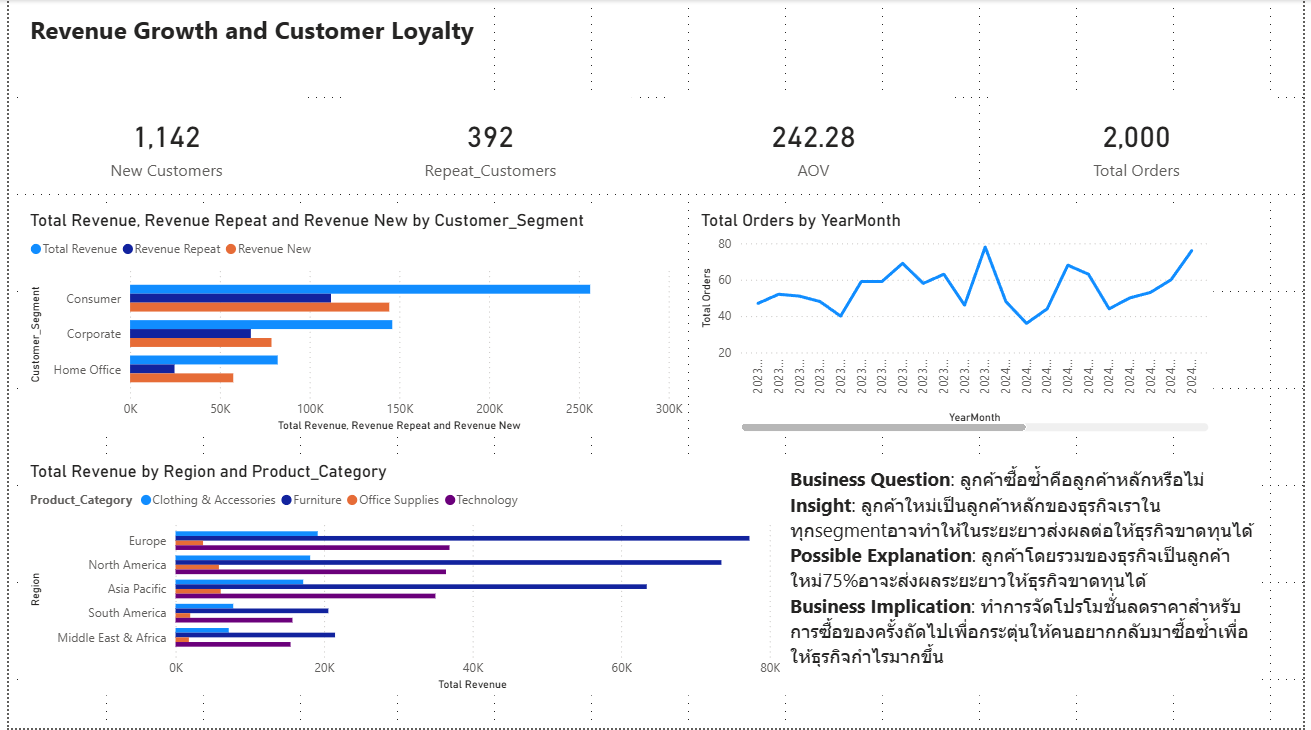

The dashboard page shown, as its layout file describes it:
{"tool":"powerbi","page":{"name":"Customer & Order Analysis","canvas":[1280,720],"ordinal":1},"visuals":[{"type":"card","fields":{"Values":["Measure Table.New Customers"]},"box":[16,96,280,96],"z":0},{"type":"card","fields":{"Values":["Measure Table.Repeat_Customers"]},"box":[336,96,280,96],"z":1000},{"type":"card","fields":{"Values":["Measure Table.AOV"]},"box":[656,96,280,96],"z":2000},{"type":"card","fields":{"Values":["Measure Table.Total Orders"]},"box":[976,96,280,96],"z":3000},{"type":"clusteredBarChart","fields":{"Category":["repeat customer by segment.Customer_Segment"],"Y":["Measure Table.Total Revenue","Measure Table.Revenue Repeat","Measure Table.Revenue New"]},"box":[16,208,656,224],"z":4000},{"type":"lineChart","fields":{"Category":["Dim_Date.YearMonth"],"Y":["Measure Table.Total Orders"]},"box":[680,208,512,224],"z":5000},{"type":"clusteredBarChart","fields":{"Y":["Measure Table.Total Revenue"],"Category":["Dim_Region.Region"],"Series":["global_ecommerce_sales.Product_Category"]},"box":[16,456,752,232],"z":6000},{"type":"textbox","box":[16,8,464,88],"z":7000},{"type":"textbox","box":[768,456,472,232],"z":8000}]}

Visuals, with their boxes in screenshot pixels (x1, y1, x2, y2), scaled from the page's 1280x720 canvas onto the 1311x730 screenshot:
card - Measure Table.New Customers: 16, 97, 303, 195
card - Measure Table.Repeat_Customers: 344, 97, 631, 195
card - Measure Table.AOV: 672, 97, 959, 195
card - Measure Table.Total Orders: 1000, 97, 1286, 195
clusteredBarChart - repeat customer by segment.Customer_Segment x Measure Table.Total Revenue: 16, 211, 688, 438
lineChart - Dim_Date.YearMonth x Measure Table.Total Orders: 696, 211, 1221, 438
clusteredBarChart - Measure Table.Total Revenue x Dim_Region.Region: 16, 462, 787, 698
textbox: 16, 8, 492, 97
textbox: 787, 462, 1270, 698
